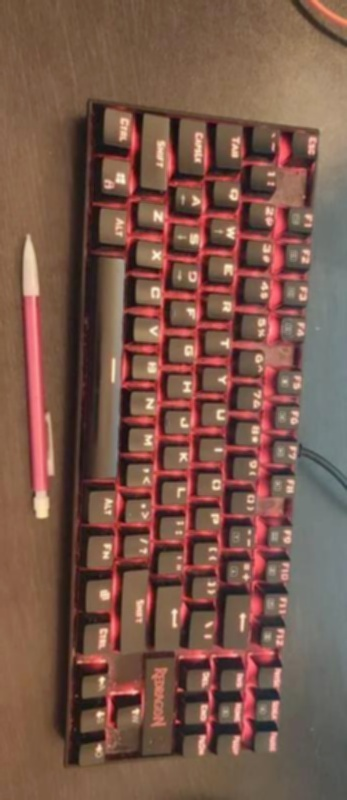-: (83, 447, 87, 478)
0-1-2-3-4-5-6-7-8-9-A-B-C-D-E-F: (117, 300, 121, 351)
1: (115, 392, 120, 429)
2: (115, 477, 119, 522)
3: (114, 563, 118, 606)
4: (112, 646, 117, 696)
5: (111, 731, 116, 780)
A: (50, 498, 54, 548)
BACKSPACE: (65, 657, 70, 692)
C: (84, 297, 88, 381)
CAPSLK: (51, 265, 56, 328)
CTRL: (81, 622, 86, 653)
DOWN: (96, 609, 102, 640)
ENTER: (133, 314, 138, 357)
ESC: (80, 708, 85, 739)
F: (131, 493, 136, 525)
F12: (131, 576, 135, 610)
F2: (129, 659, 134, 697)
F3: (128, 740, 133, 778)
PRTSC: (99, 431, 104, 465)
Q: (96, 692, 101, 721)
RIGHT: (82, 535, 87, 566)
SCRLK: (67, 318, 72, 390)
SPACE: (95, 777, 100, 800)
T: (100, 311, 104, 368)
UP: (64, 747, 69, 785)
V: (98, 519, 102, 553)
W: (50, 397, 55, 426)
WIN: (65, 574, 70, 605)
Y: (66, 480, 71, 515)
